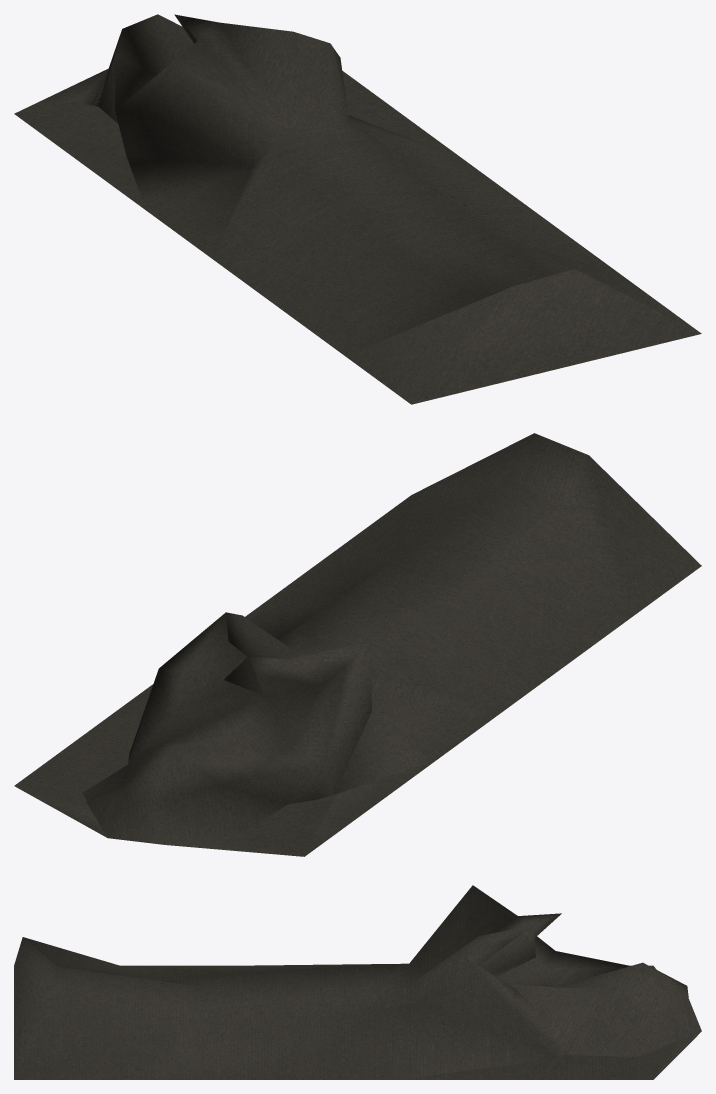
File: corpse.glb
3 views of the same model, one above another, from view 1: azimuth 30°, elevation 25°; view 2: azimuth 150°, elevation 25°; view 3: azimuth 270°, elevation 25° (orthographic). The views are drawn at different scales.
Parts seen in each view (by area): view 1: Sphere; view 2: Sphere; view 3: Sphere.
Boxes of the visible parts, x1,y1,x2,y2 form: Sphere: (14,14,701,404); Sphere: (14,433,701,856); Sphere: (14,885,701,1079).
Size of the model in its own units: 0.6271 by 0.2552 by 1.6.
Materials: 1 (1 with a texture image).
